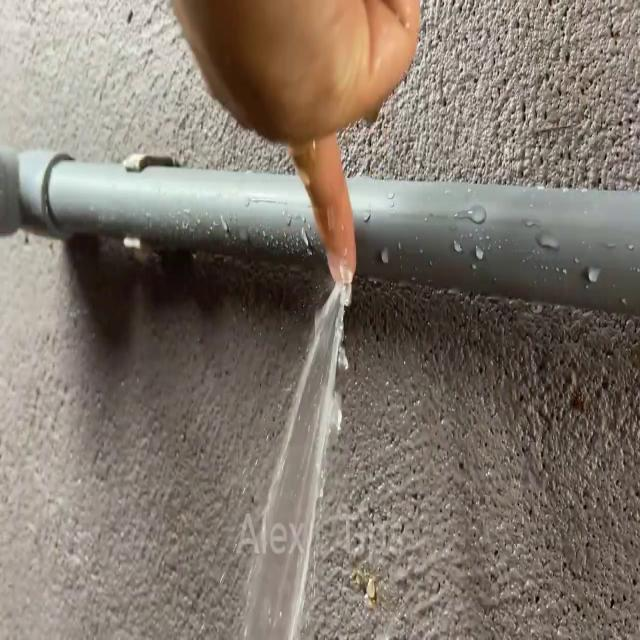leak: (239, 281, 352, 640)
